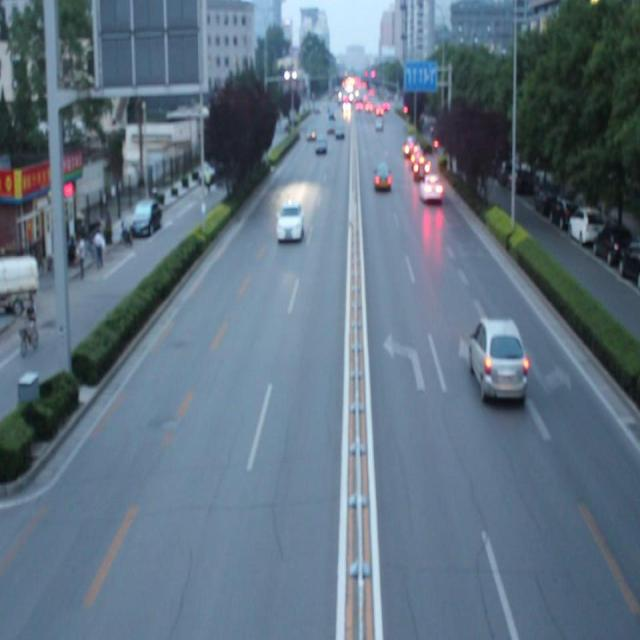car: (468, 312, 527, 401), (276, 202, 302, 241), (419, 169, 444, 204)
